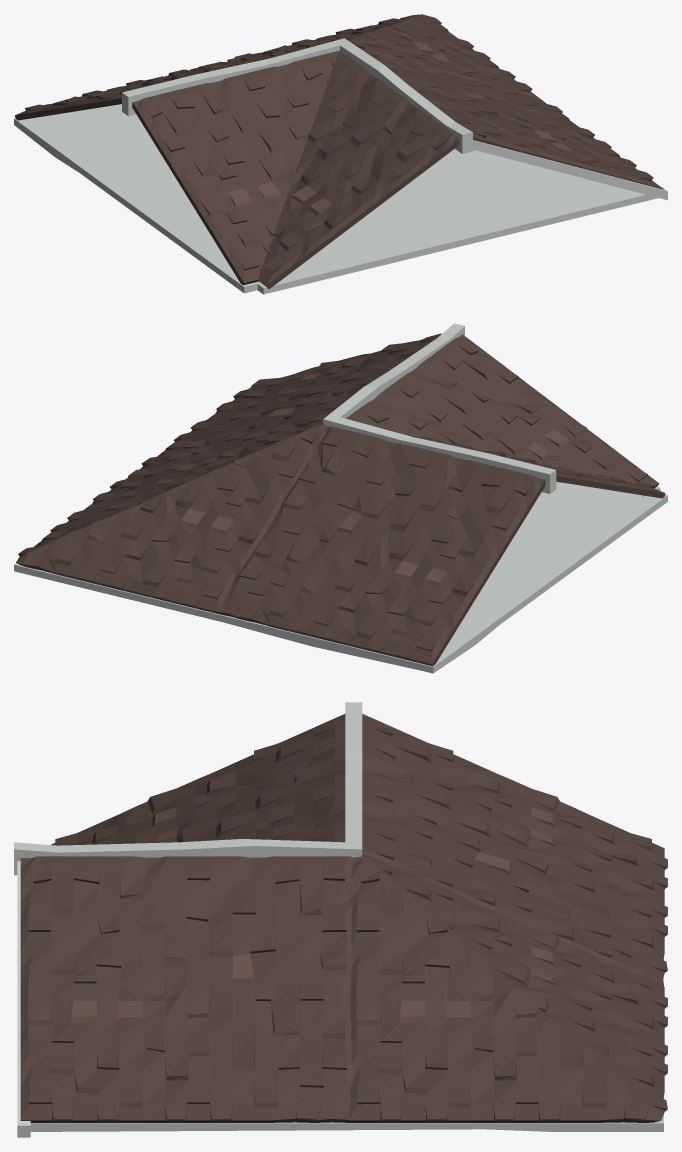
File: SM_Bld_Mansion_Roof_Corner_01.glb
The picture shows the model from 3 angles, top to bottom: view 1: azimuth 30°, elevation 25°; view 2: azimuth 150°, elevation 25°; view 3: azimuth 270°, elevation 25°; orthographic projection. The views are drawn at different scales.
Parts seen in each view (by area): view 1: SM_Bld_Mansion_Roof_Corner_01_part00; view 2: SM_Bld_Mansion_Roof_Corner_01_part00; view 3: SM_Bld_Mansion_Roof_Corner_01_part00.
Boxes of the visible parts, x1,y1,x2,y2 form: SM_Bld_Mansion_Roof_Corner_01_part00: (14,14,667,294); SM_Bld_Mansion_Roof_Corner_01_part00: (14,323,667,673); SM_Bld_Mansion_Roof_Corner_01_part00: (14,702,667,1137).
Size of the model in its own units: 11.98 by 3.27 by 11.95.
Materials: 1 (1 with a texture image).
